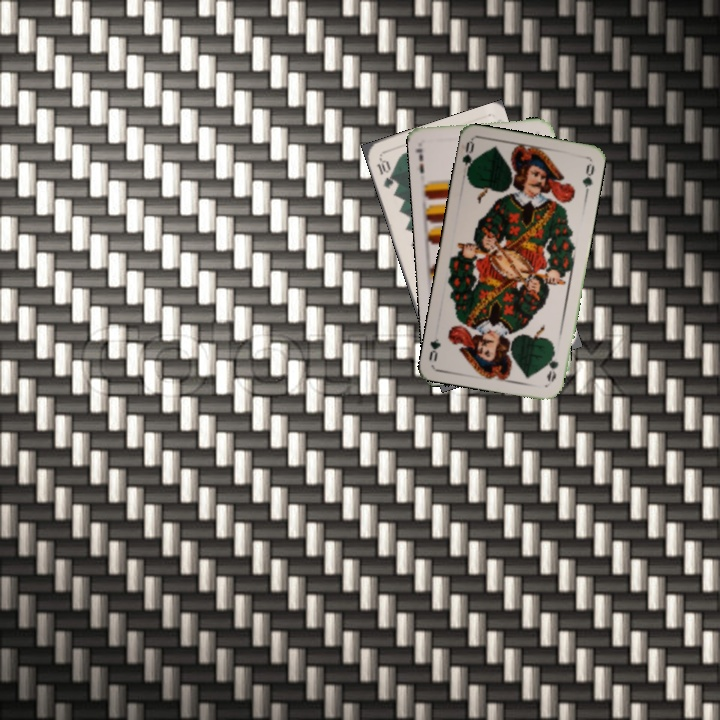E7: (411, 144, 427, 175)
G10: (373, 154, 396, 192)
GO: (458, 138, 479, 179), (543, 344, 561, 384)
